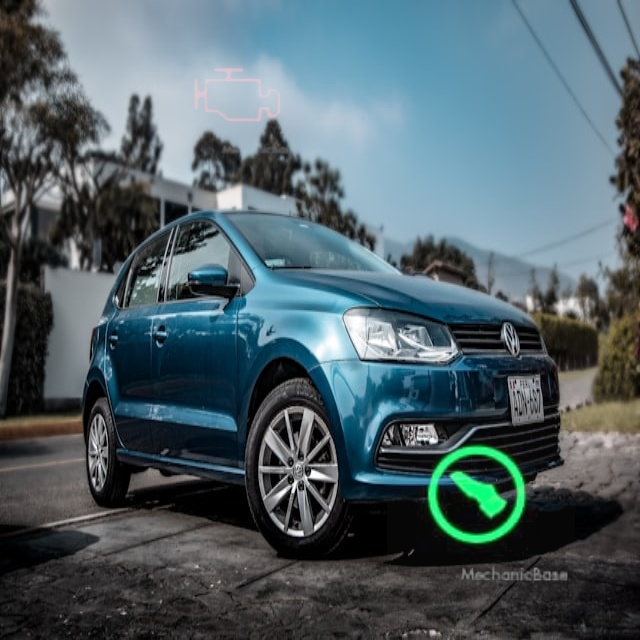symbol: (387, 402, 575, 590), (172, 31, 301, 160)
